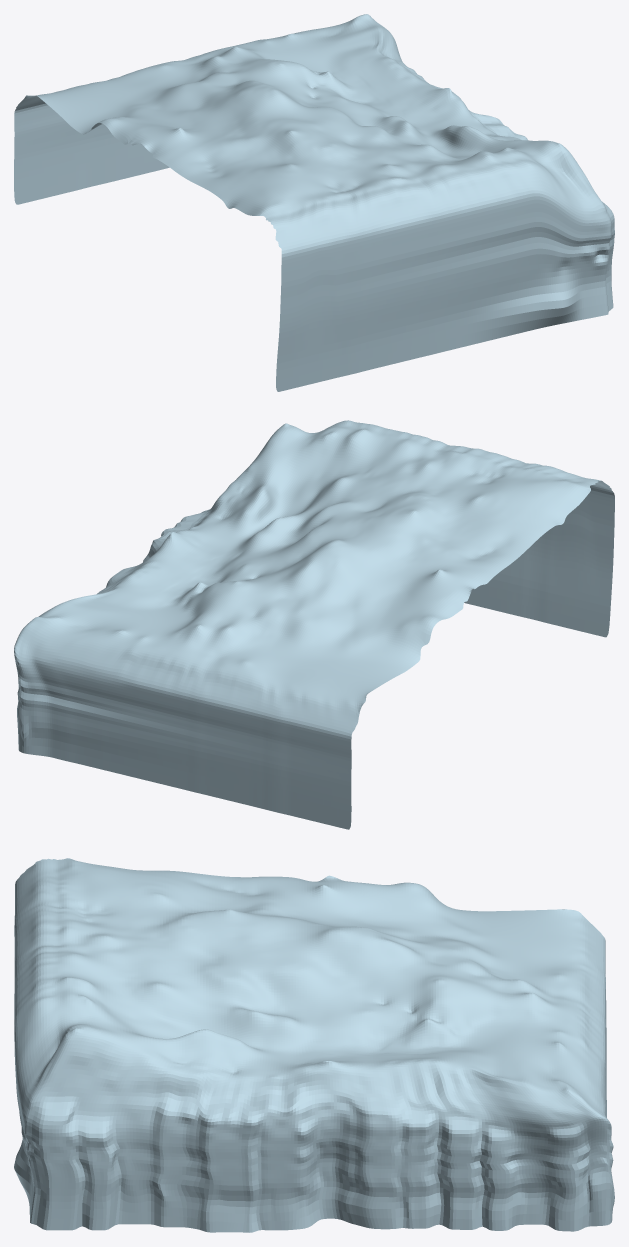
The model's file is ParedGlaciar2.fbx.
3 views of the same model, one above another, from view 1: azimuth 30°, elevation 25°; view 2: azimuth 150°, elevation 25°; view 3: azimuth 270°, elevation 25° (orthographic). The views are drawn at different scales.
Parts seen in each view (by area): view 1: Plane.001; view 2: Plane.001; view 3: Plane.001.
Boxes of the visible parts, left/top/right/bottom form: Plane.001: left=14, top=14, right=614, bottom=391; Plane.001: left=14, top=420, right=614, bottom=829; Plane.001: left=14, top=858, right=614, bottom=1232.
Bounding box in the file's own units: 10249 × 4797 × 13658.
